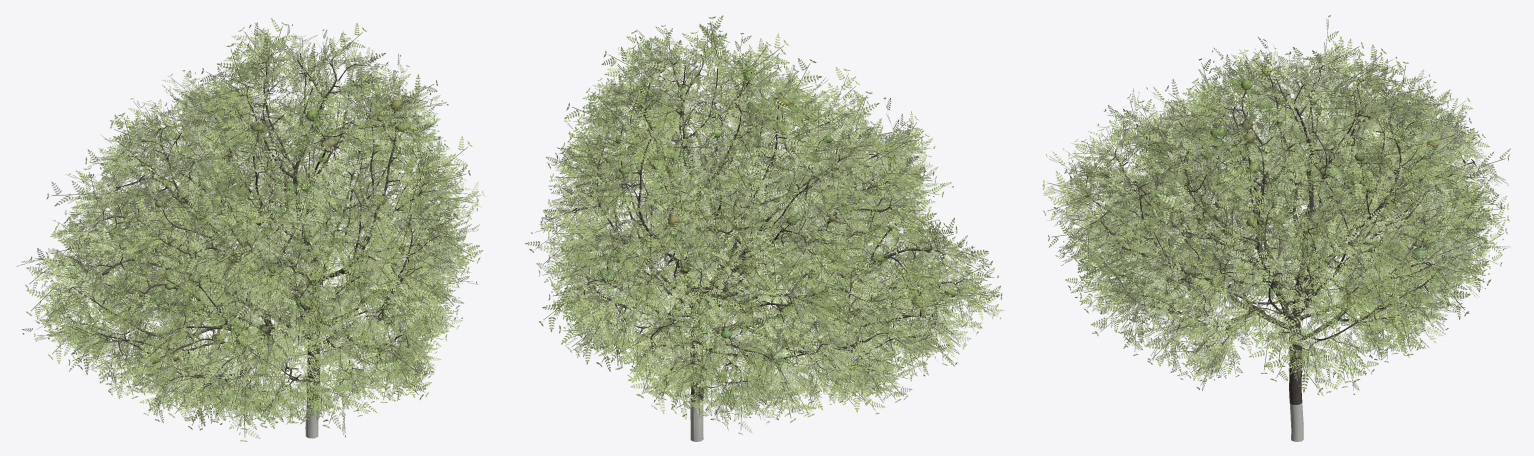
File: tree_40_broadleaf.glb
3 views of the same model, side by side, from view 1: azimuth 30°, elevation 25°; view 2: azimuth 150°, elevation 25°; view 3: azimuth 270°, elevation 25° (orthographic). The views are drawn at different scales.
Visible parts, largest first — view 1: tree_40_broadleaf.leaves, tree_40_broadleaf.trunk_branches, tree_40_broadleaf.foliage_volume; view 2: tree_40_broadleaf.leaves, tree_40_broadleaf.trunk_branches, tree_40_broadleaf.foliage_volume, tree_40_broadleaf.trunk_whitewash; view 3: tree_40_broadleaf.leaves, tree_40_broadleaf.trunk_branches, tree_40_broadleaf.foliage_volume, tree_40_broadleaf.trunk_whitewash.
Boxes of the visible parts, x1,y1,x2,y2 form: tree_40_broadleaf.leaves: (16, 18, 485, 441); tree_40_broadleaf.trunk_branches: (65, 53, 442, 401); tree_40_broadleaf.foliage_volume: (123, 77, 426, 363); tree_40_broadleaf.leaves: (525, 15, 1004, 434); tree_40_broadleaf.trunk_branches: (572, 51, 962, 402); tree_40_broadleaf.foliage_volume: (597, 61, 956, 382); tree_40_broadleaf.trunk_whitewash: (690, 402, 703, 441); tree_40_broadleaf.leaves: (1042, 15, 1510, 396); tree_40_broadleaf.trunk_branches: (1085, 65, 1476, 404); tree_40_broadleaf.foliage_volume: (1144, 67, 1454, 335); tree_40_broadleaf.trunk_whitewash: (1289, 403, 1303, 441).
Size of the model in its own units: 15.12 by 13.95 by 15.21.
4 materials, 2 textured.
